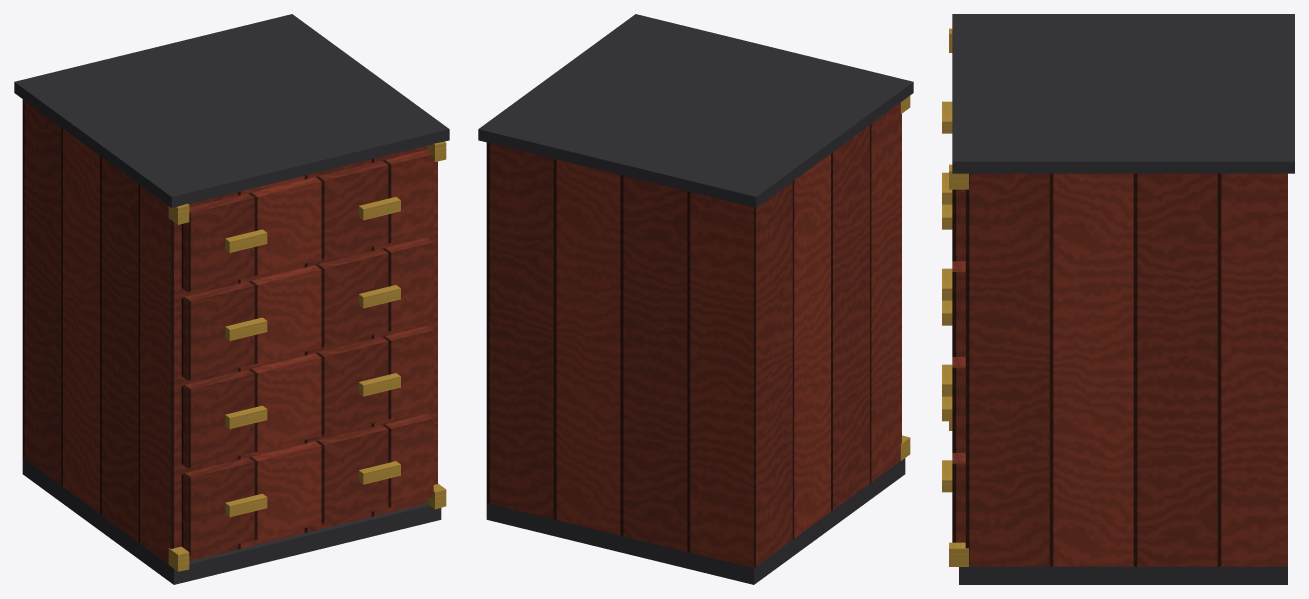
File: Tansu.fbx
The picture shows the model from 3 angles, left to right: view 1: azimuth 30°, elevation 25°; view 2: azimuth 150°, elevation 25°; view 3: azimuth 270°, elevation 25°; orthographic projection. The views are drawn at different scales.
Visible parts, largest first — view 1: Tansu; view 2: Tansu; view 3: Tansu.
Part boxes in pixels (x1,y1,x2,y2): Tansu: (14, 14, 449, 584); Tansu: (478, 14, 913, 584); Tansu: (942, 14, 1294, 584).
Bounding box in the file's own units: 1.04 × 1.4 × 1.05.
3 materials, 2 textured.
